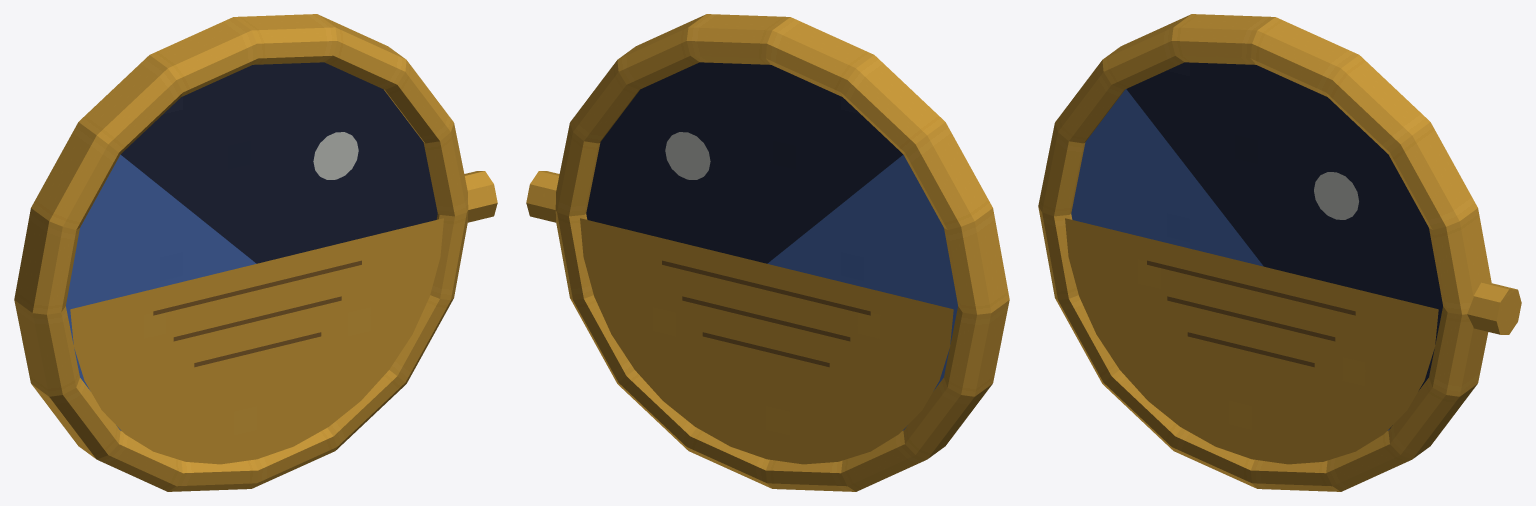
The model's file is clock_40.obj.
The picture shows the model from 3 angles, left to right: view 1: azimuth 30°, elevation 25°; view 2: azimuth 150°, elevation 25°; view 3: azimuth 330°, elevation 25°; orthographic projection.
Size of the model in its own units: 0.6363 by 0.6037 by 0.075.
